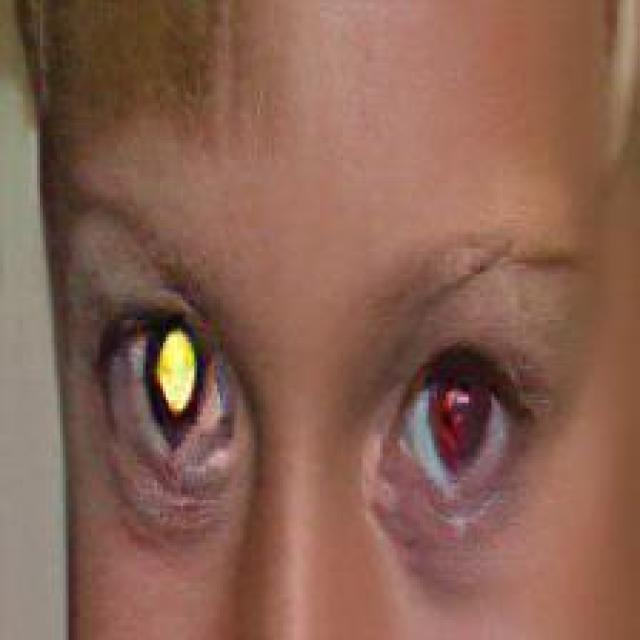reflexo-alterado: (90, 300, 245, 516)
reflexo-normal: (369, 312, 559, 543)
